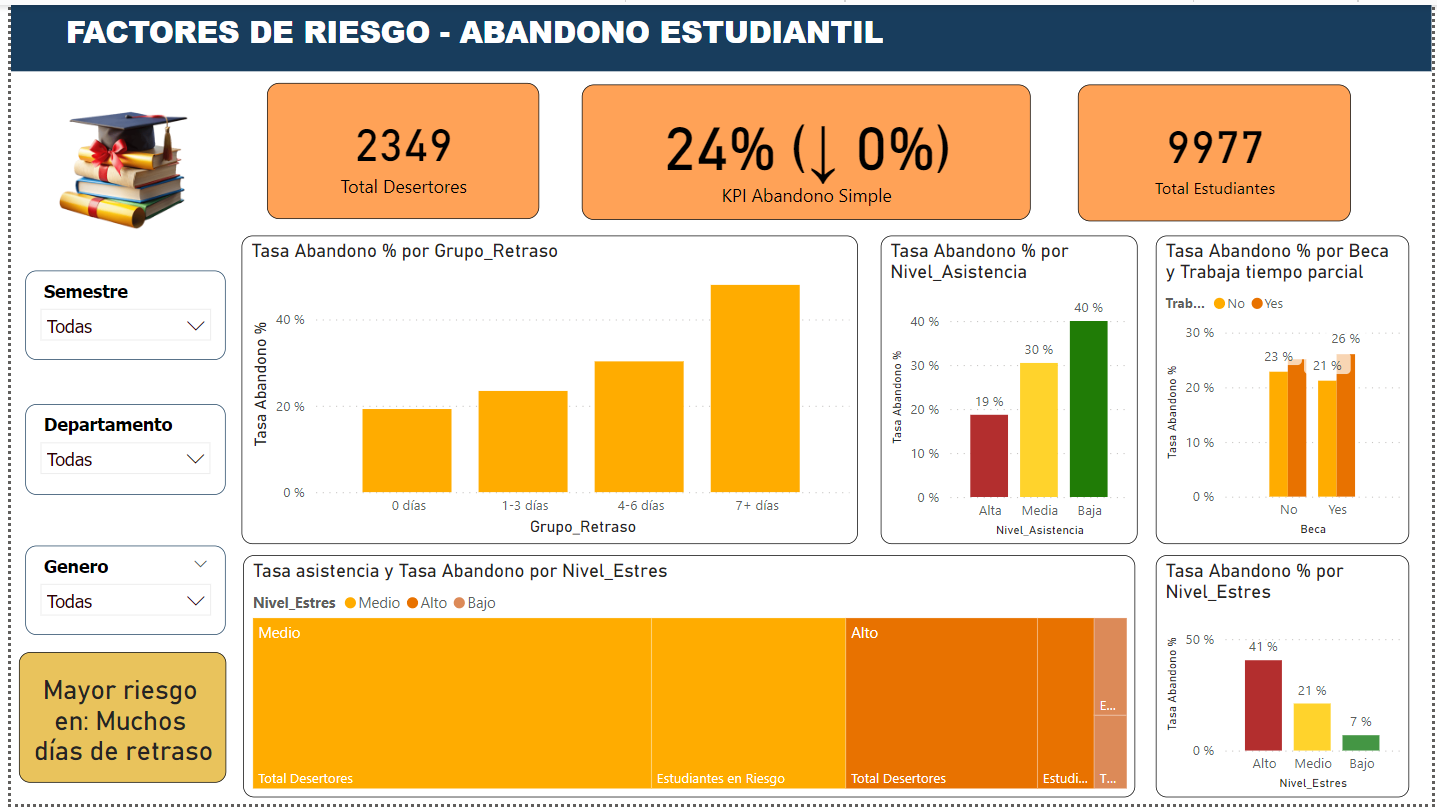

The dashboard page shown, as its layout file describes it:
{"tool":"powerbi","page":{"name":"Factores de riesgo","canvas":[1280,720],"ordinal":0},"visuals":[{"type":"slicer","fields":{"Values":["student_dropout_dataset_v3.Semestre"]},"box":[12.5,239.8,180.7,80.5],"z":0},{"type":"slicer","fields":{"Values":["student_dropout_dataset_v3.Genero"]},"box":[12.5,486.7,180.7,80.5],"z":1000},{"type":"card","fields":{"Values":["student_dropout_dataset_v3.KPI Abandono Simple"]},"box":[514.5,71,404.1,122.2],"z":2000},{"type":"card","fields":{"Values":["Medidas.Total Desertores"]},"box":[230.3,69.7,245.5,122.7],"z":3000},{"type":"card","fields":{"Values":["Medidas.Total Estudiantes"]},"box":[960.8,71.2,246.1,123.1],"z":4000},{"type":"columnChart","fields":{"Category":["student_dropout_dataset_v3.Nivel_Estres"],"Y":["Medidas.Tasa Abandono %"]},"box":[1031.5,495.9,228.1,218.2],"z":5000},{"type":"clusteredColumnChart","fields":{"Category":["student_dropout_dataset_v3.Nivel_Asistencia"],"Y":["Medidas.Tasa Abandono %"]},"box":[783.6,208.3,231.4,277.7],"z":6000},{"type":"clusteredColumnChart","fields":{"Y":["Medidas.Tasa Abandono %"],"Category":["student_dropout_dataset_v3.Grupo_Retraso"]},"box":[208.3,208.3,555.4,277.7],"z":7000},{"type":"textbox","box":[0,0,1280,60],"z":8000},{"type":"lineClusteredColumnComboChart","fields":{"Category":["student_dropout_dataset_v3.Beca"],"Y":["Medidas.Tasa Abandono %"],"Series":["student_dropout_dataset_v3.Part_Time_Job"]},"box":[1031.5,208.3,228.1,277.7],"z":9000},{"type":"image","box":[15.8,69,179.4,151.8],"z":10000},{"type":"card","fields":{"Values":["student_dropout_dataset_v3.Insight_Abandono"]},"box":[6.6,583.5,186.8,117.4],"z":11000},{"type":"slicer","fields":{"Values":["student_dropout_dataset_v3.Departamento"]},"box":[12.9,359.6,180.5,81.7],"z":12000},{"type":"treemap","title":"Tasa asistencia y Tasa Abandono  por Nivel_Estres","fields":{"Group":["student_dropout_dataset_v3.Nivel_Estres"],"Values":["Medidas.Total Desertores"]},"box":[209.1,495.2,803.6,218],"z":13000}]}

Visuals, with their boxes in screenshot pixels (x1, y1, x2, y2), scaled from the page's 1280x720 canvas onto the 1437x807 screenshot:
slicer - student_dropout_dataset_v3.Semestre: 14 269 217 359
slicer - student_dropout_dataset_v3.Genero: 14 546 217 636
card - student_dropout_dataset_v3.KPI Abandono Simple: 578 80 1031 217
card - Medidas.Total Desertores: 259 78 534 216
card - Medidas.Total Estudiantes: 1079 80 1355 218
columnChart - student_dropout_dataset_v3.Nivel_Estres x Medidas.Tasa Abandono %: 1158 556 1414 800
clusteredColumnChart - student_dropout_dataset_v3.Nivel_Asistencia x Medidas.Tasa Abandono %: 880 233 1139 545
clusteredColumnChart - Medidas.Tasa Abandono % x student_dropout_dataset_v3.Grupo_Retraso: 234 233 857 545
textbox: 0 0 1436 67
lineClusteredColumnComboChart - student_dropout_dataset_v3.Beca x Medidas.Tasa Abandono %: 1158 233 1414 545
image: 18 77 219 247
card - student_dropout_dataset_v3.Insight_Abandono: 7 654 217 786
slicer - student_dropout_dataset_v3.Departamento: 14 403 217 495
"Tasa asistencia y Tasa Abandono  por Nivel_Estres" treemap: 235 555 1137 799
